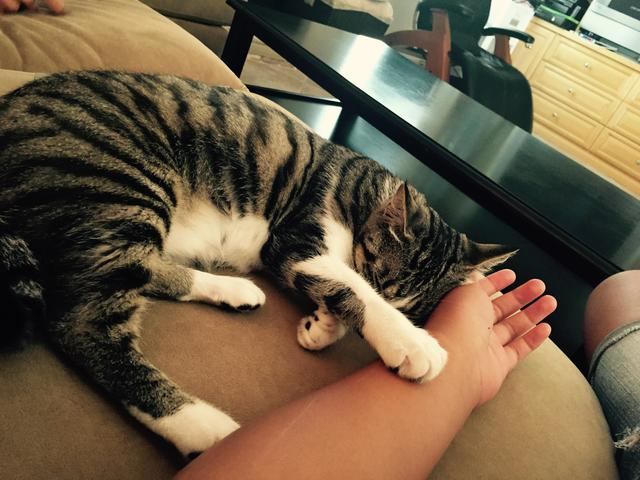playdoh: (1, 65, 520, 459)
